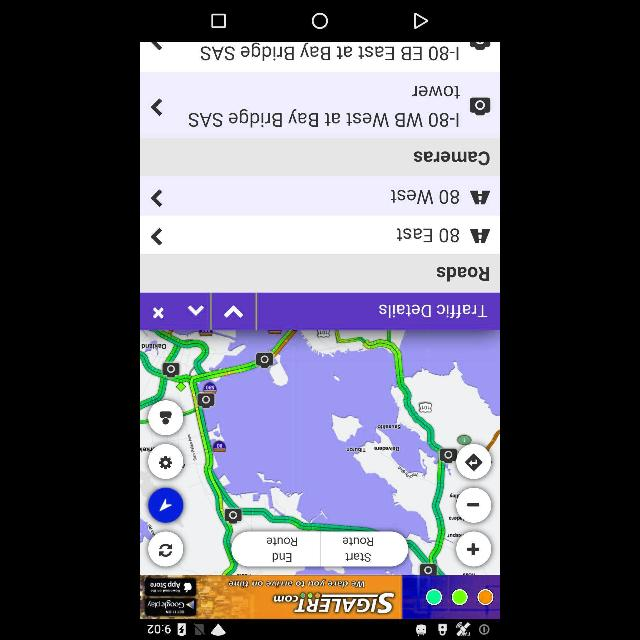icon: (466, 96, 494, 120), (311, 10, 331, 32), (222, 304, 246, 320), (470, 189, 490, 207), (469, 228, 491, 244), (412, 12, 430, 30), (210, 12, 228, 30), (150, 96, 163, 118), (150, 226, 163, 248), (151, 187, 165, 207), (151, 306, 167, 322), (188, 301, 202, 319)
iframe: (140, 576, 500, 620)
map: (140, 332, 500, 576)
panel: (141, 1, 499, 42)
text: (185, 109, 461, 129), (199, 44, 459, 62), (378, 302, 488, 318), (411, 149, 492, 167), (390, 187, 460, 206), (433, 262, 491, 282), (395, 226, 459, 242), (411, 83, 461, 99)
uppertaskbar: (140, 622, 500, 640)
